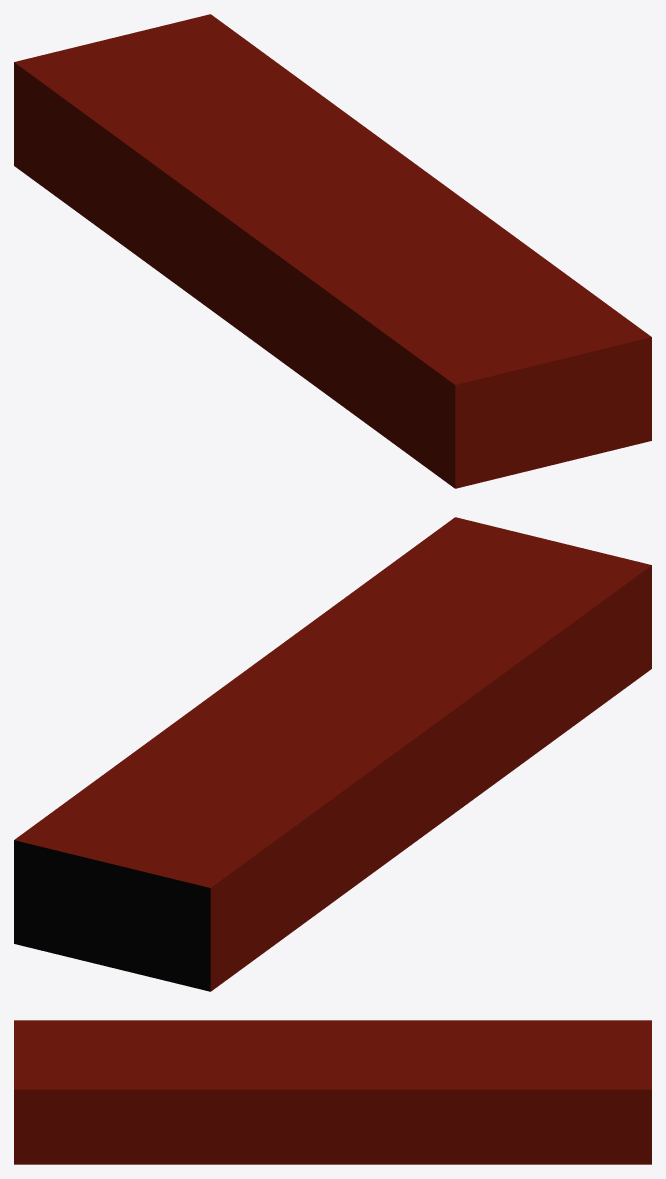
Rendered from Galerie.fbx.
3 renders of one model, top to bottom at view 1: azimuth 30°, elevation 25°; view 2: azimuth 150°, elevation 25°; view 3: azimuth 270°, elevation 25°, orthographic. The views are drawn at different scales.
Visible parts, largest first — view 1: Cube.001; view 2: Cube.001; view 3: Cube.001.
Boxes of the visible parts, box(x1,y1,x2,y2) form: Cube.001: box(14, 14, 651, 488); Cube.001: box(14, 517, 651, 991); Cube.001: box(14, 1020, 651, 1164).
Size of the model in its own units: 595 by 300 by 2313.
